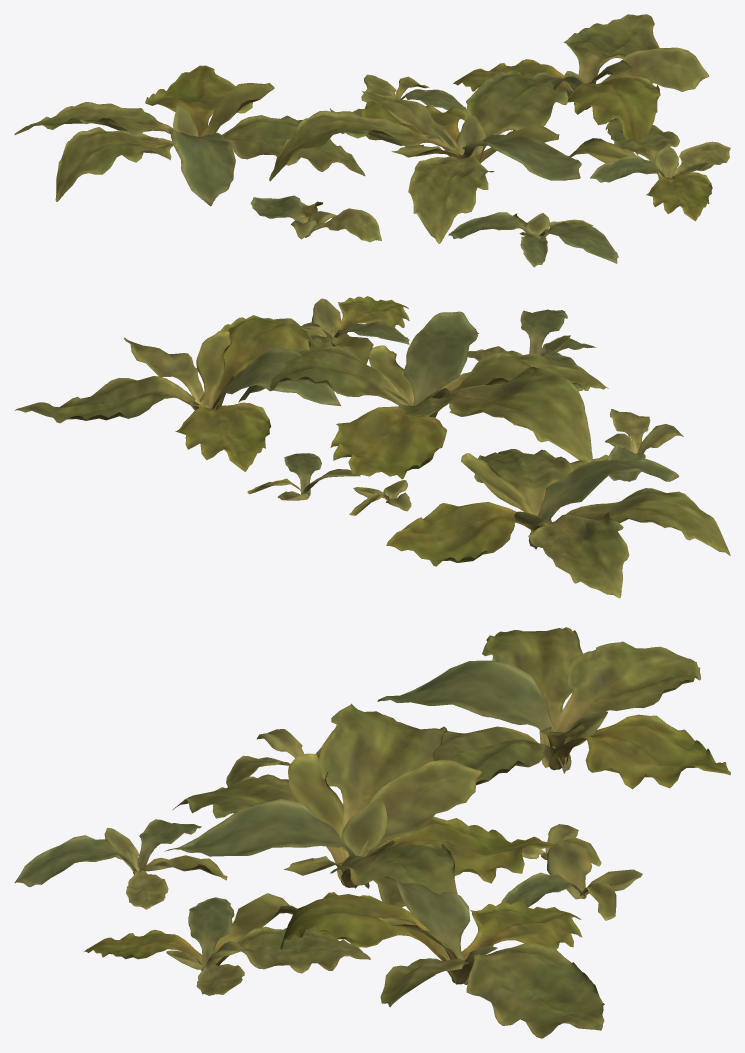
The model's file is ph_succulent_3.glb.
3 renders of one model, top to bottom at view 1: azimuth 30°, elevation 25°; view 2: azimuth 150°, elevation 25°; view 3: azimuth 270°, elevation 25°, orthographic. The views are drawn at different scales.
Parts seen in each view (by area): view 1: ph_succulent_3_lod1; view 2: ph_succulent_3_lod1; view 3: ph_succulent_3_lod1.
Boxes of the visible parts, <box> form: ph_succulent_3_lod1: <box>14,14,730,267</box>; ph_succulent_3_lod1: <box>15,296,730,598</box>; ph_succulent_3_lod1: <box>14,627,730,1038</box>.
Bounding box in the file's own units: 0.638 × 0.0787 × 0.4994.
1 material, 1 textured.
